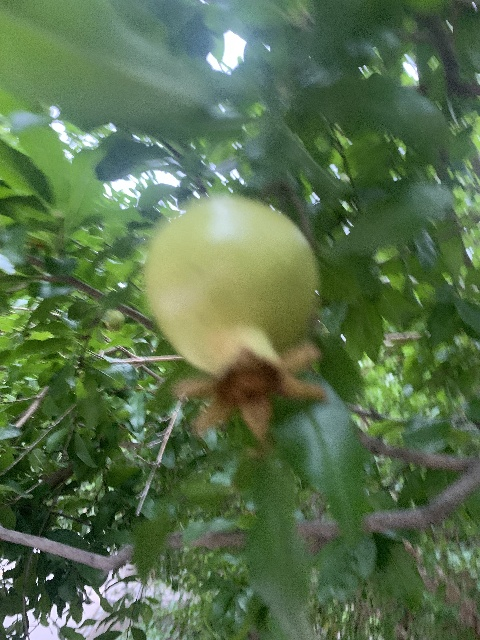mid-growth: (143, 194, 329, 442), (102, 309, 124, 333)
